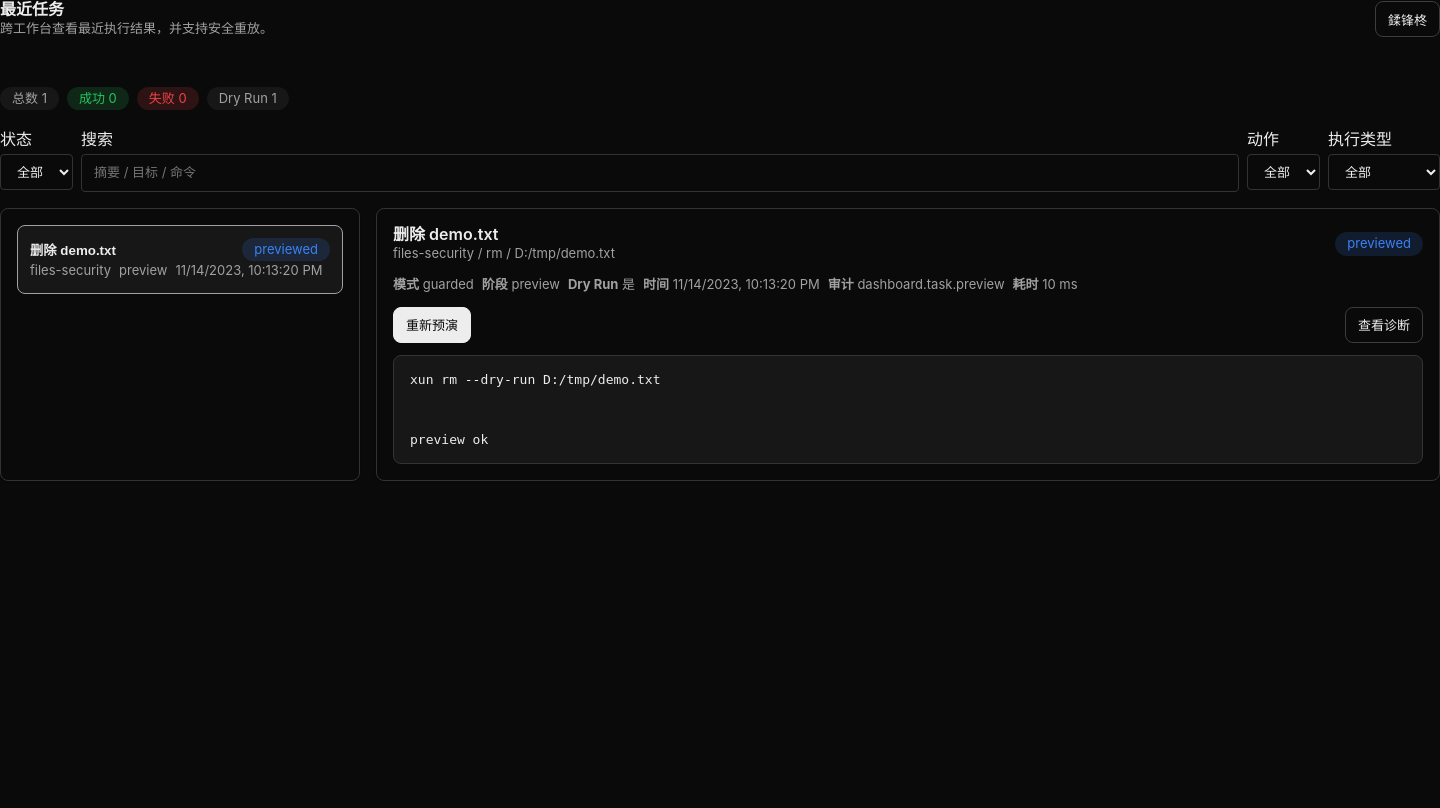
Test case: RecentTasksPanel › replays guarded tasks through preview and confirm
Click the button with test id "replay-button".
click(432, 325)  # box x1=393 y1=307 x2=471 y2=343
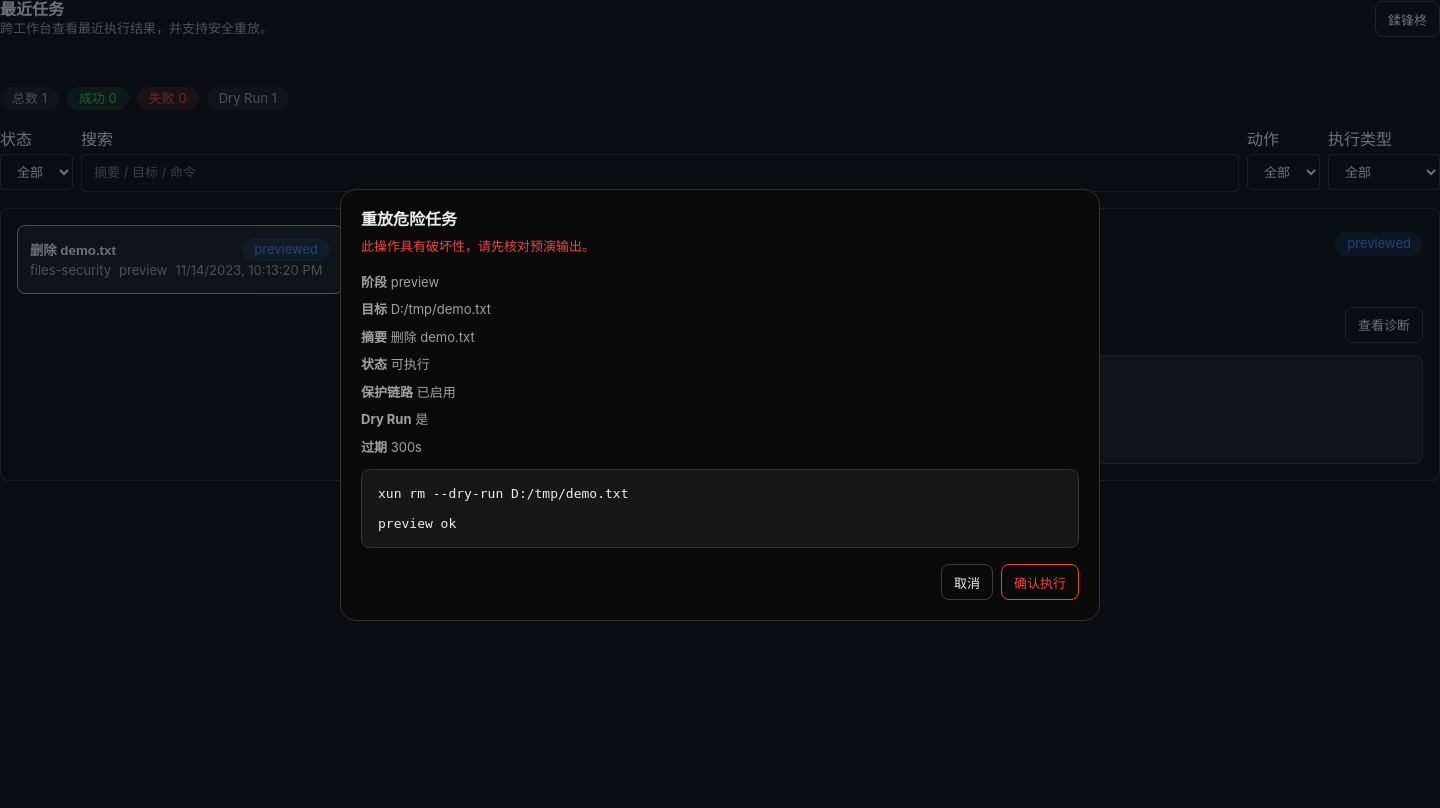
Expected: the text "确认执行" is shown, x1=1014 y1=573 x2=1066 y2=592
Expected: the button "确认执行" is shown
Click the button "确认执行".
click(1040, 582)  # box x1=1001 y1=564 x2=1079 y2=600
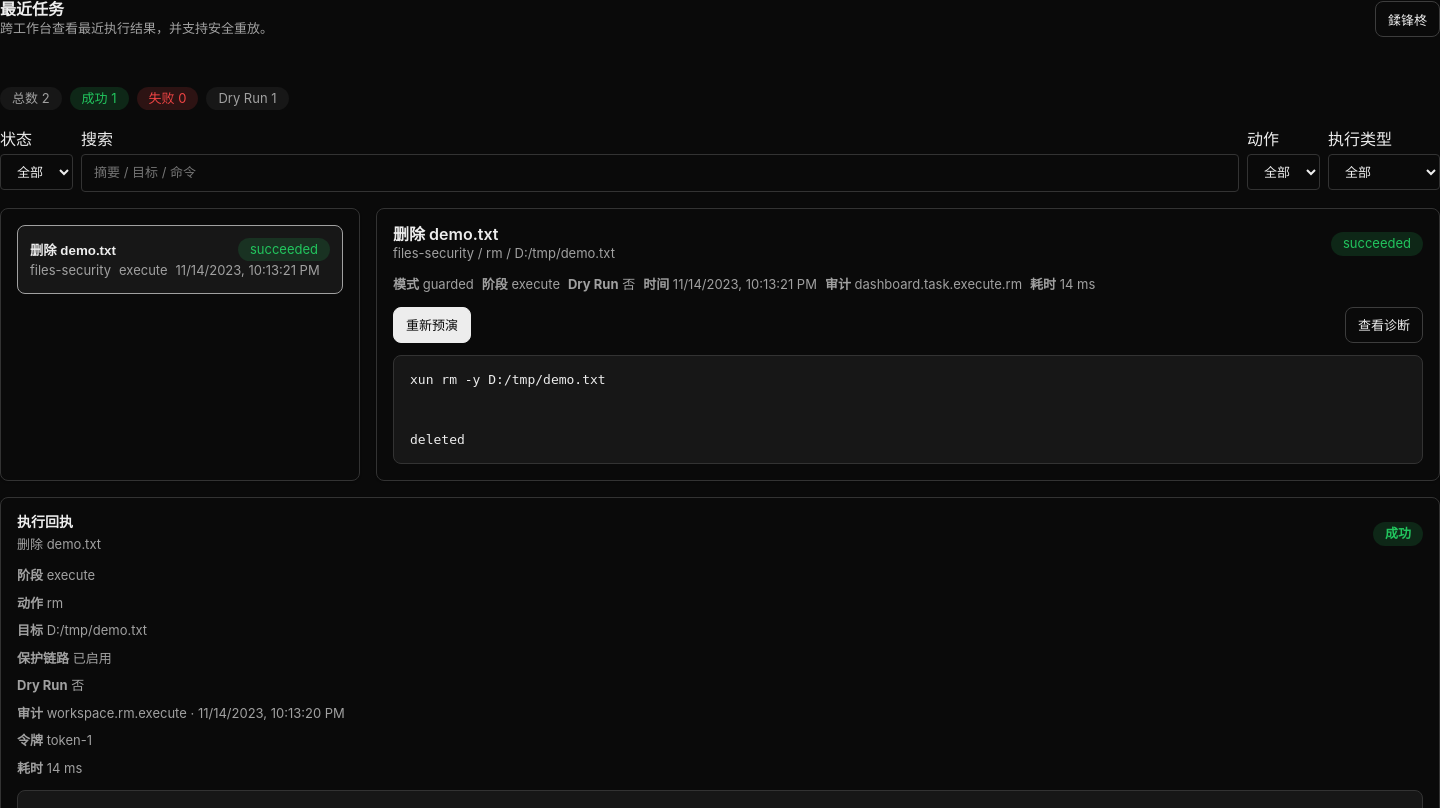
Expected: the text "执行回执" is shown, x1=17 y1=513 x2=73 y2=530
